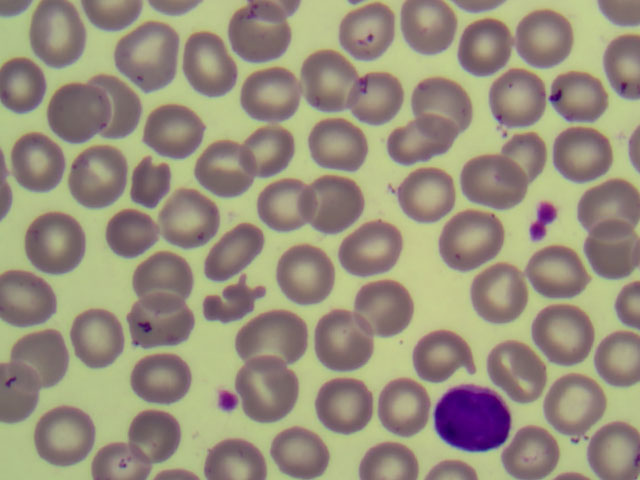Platelets: (522, 195, 556, 243), (213, 381, 243, 414)
RBC: (83, 416, 139, 480), (198, 416, 254, 480), (270, 416, 326, 480), (506, 416, 562, 480), (30, 2, 86, 65), (117, 18, 173, 81), (82, 74, 138, 137), (47, 81, 103, 144), (9, 138, 65, 201), (78, 143, 134, 206), (28, 214, 84, 277), (13, 323, 69, 386), (4, 340, 60, 403), (65, 310, 121, 373), (42, 407, 98, 470), (130, 398, 186, 461), (128, 336, 184, 399), (131, 286, 187, 349), (137, 248, 193, 311), (98, 201, 154, 264), (158, 186, 214, 249), (116, 151, 172, 214), (148, 87, 204, 150), (181, 31, 237, 94), (229, 1, 285, 64), (244, 62, 300, 125), (238, 122, 294, 185), (187, 133, 243, 196), (210, 207, 266, 270), (209, 272, 265, 335), (242, 309, 298, 372), (238, 351, 294, 414), (324, 374, 380, 437), (309, 310, 365, 373), (361, 269, 417, 332), (274, 242, 330, 305), (360, 220, 416, 283), (260, 182, 316, 245), (296, 169, 352, 232), (317, 123, 373, 186), (295, 50, 351, 113), (350, 66, 406, 129), (340, 3, 396, 66), (414, 73, 470, 136), (389, 115, 445, 178), (405, 162, 461, 225), (451, 218, 507, 281), (469, 265, 525, 328), (418, 332, 474, 395), (367, 381, 423, 444), (558, 370, 614, 433), (478, 333, 534, 396), (556, 301, 612, 364), (520, 234, 576, 297), (578, 215, 634, 278), (584, 171, 640, 234), (552, 121, 608, 184), (493, 125, 549, 188), (462, 153, 518, 216), (484, 66, 540, 129), (453, 21, 509, 84), (516, 12, 572, 75), (551, 67, 607, 130), (584, 328, 640, 391), (584, 416, 640, 479), (399, 1, 455, 63), (1, 273, 56, 336)
WBC: (438, 377, 506, 450)
